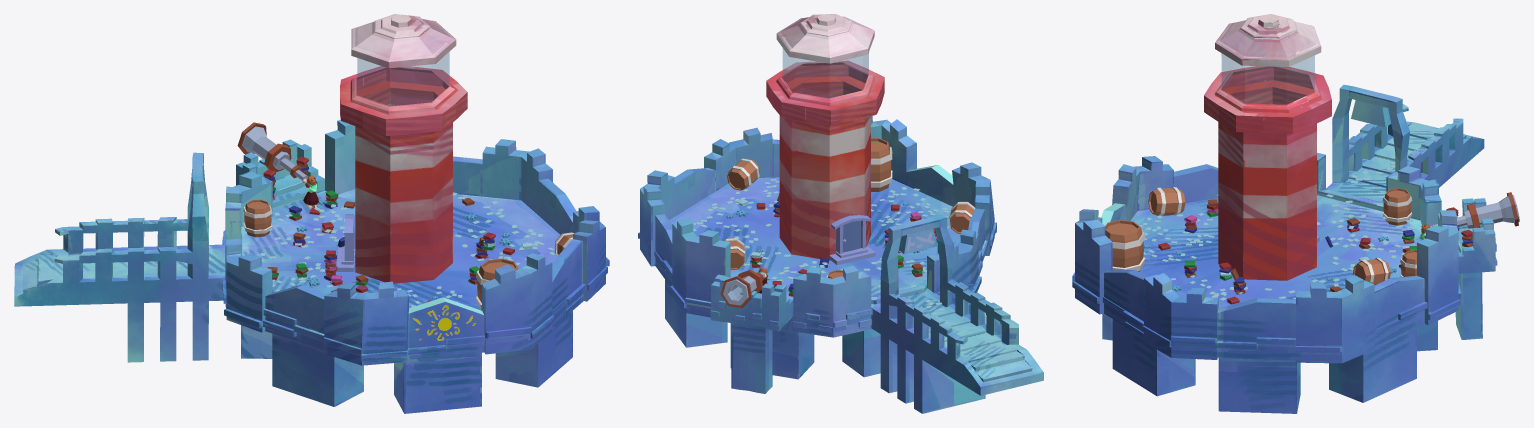
File: phare.glb
The picture shows the model from 3 angles, left to right: view 1: azimuth 30°, elevation 25°; view 2: azimuth 150°, elevation 25°; view 3: azimuth 270°, elevation 25°; orthographic projection. The views are drawn at different scales.
Parts seen in each view (by area): view 1: Cylinder.005; view 2: Cylinder.005; view 3: Cylinder.005.
Part boxes in pixels (left/top/right/bottom): Cylinder.005: left=14, top=14, right=609, bottom=413; Cylinder.005: left=638, top=14, right=1043, bottom=413; Cylinder.005: left=1072, top=14, right=1519, bottom=413.
Size of the model in its own units: 58.76 by 38.01 by 47.79.
Materials: 21 (3 with a texture image).
